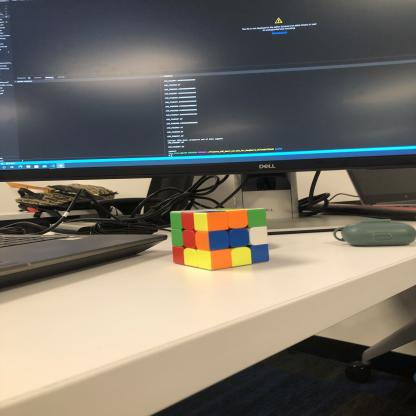UnsolvedCube: (167, 204, 269, 268)
